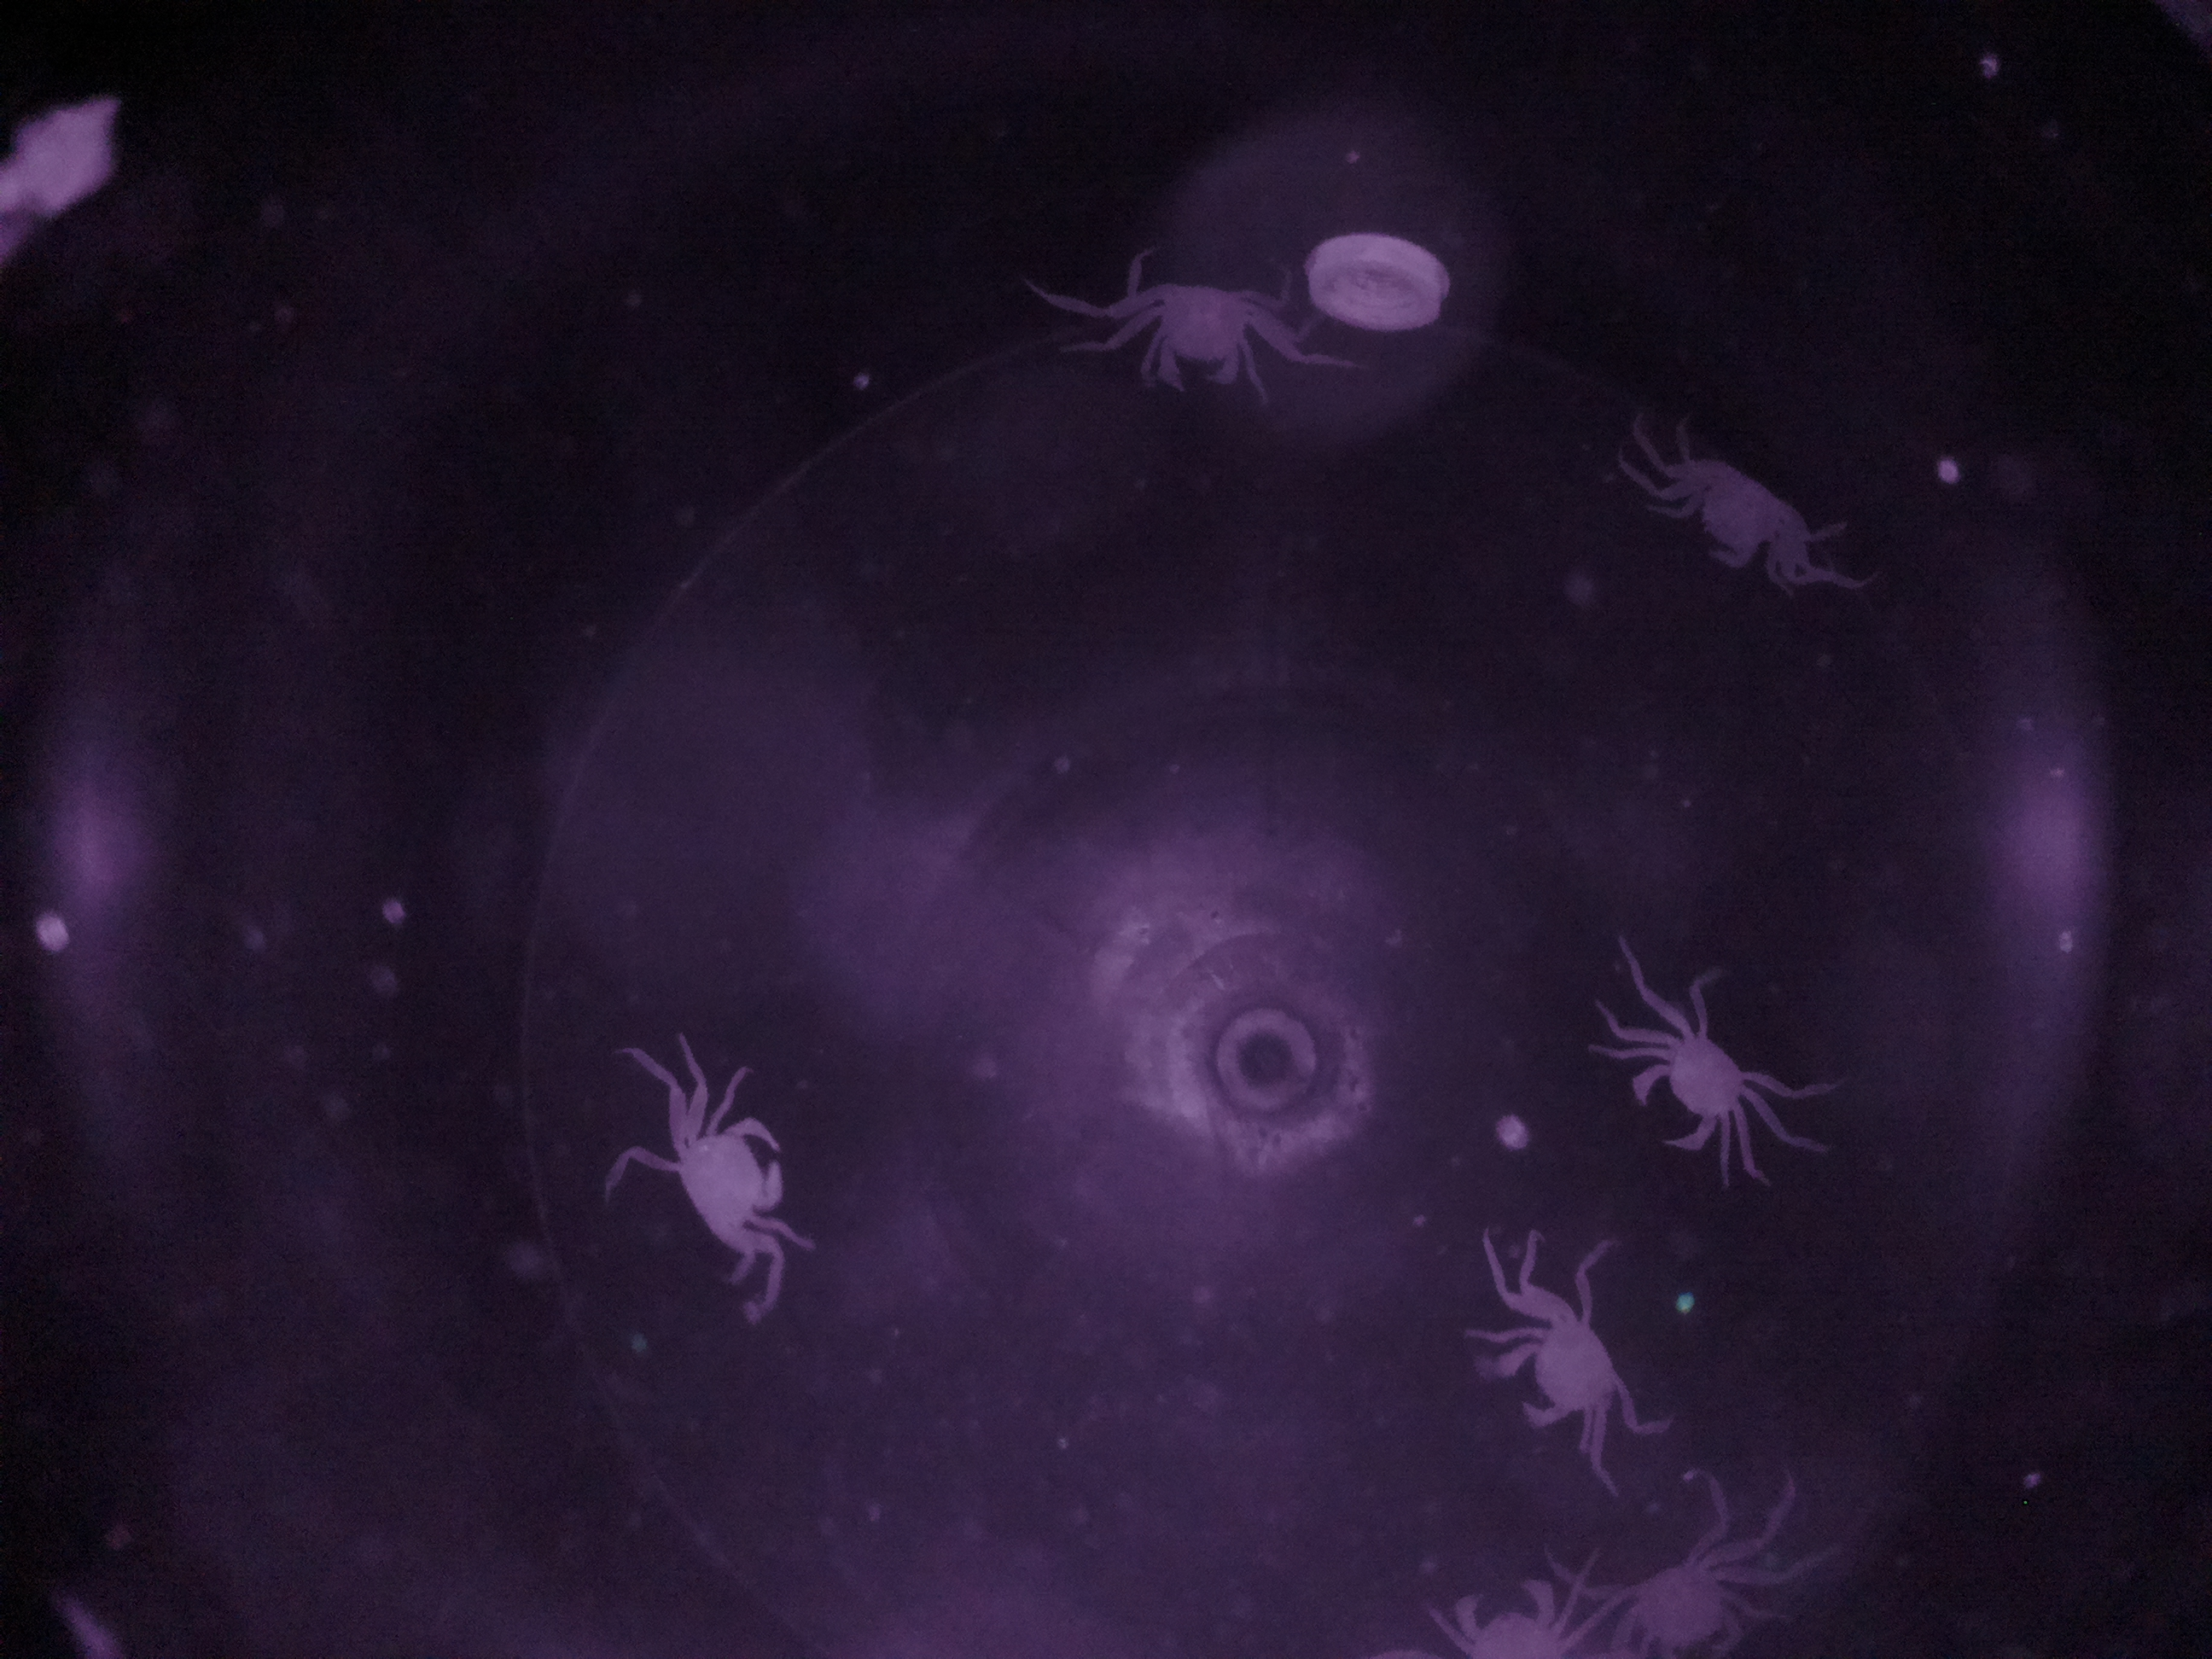Crab: (622, 1086, 805, 1288), (1482, 1270, 1656, 1462), (1103, 253, 1285, 430), (1660, 430, 1822, 599), (1623, 997, 1775, 1169)
